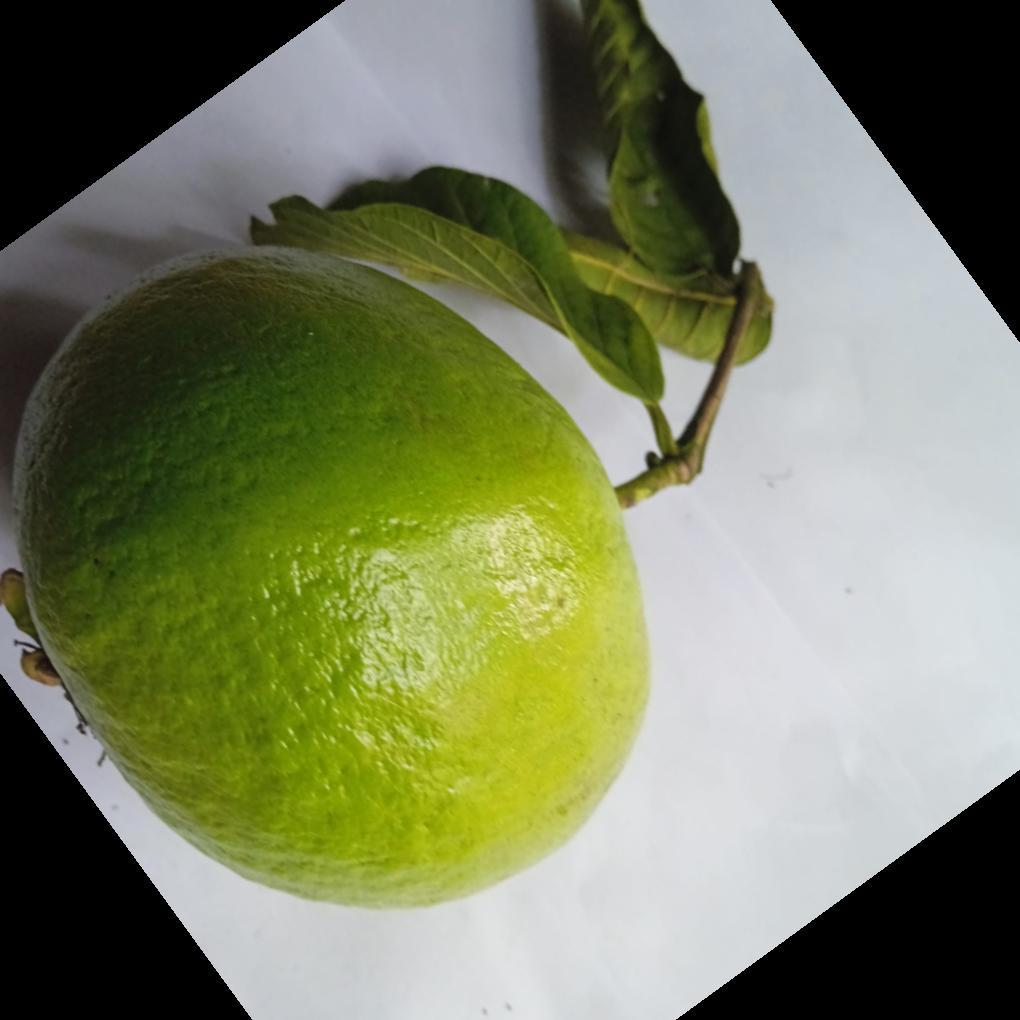FreshGuava: (9, 245, 654, 915)
